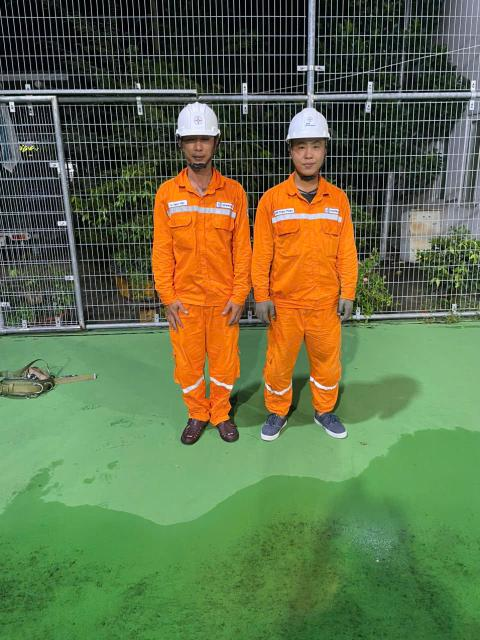helmet: (176, 96, 230, 148), (275, 106, 340, 145)
shoes: (314, 404, 352, 445), (174, 408, 212, 445), (258, 402, 287, 440), (216, 413, 241, 448)
